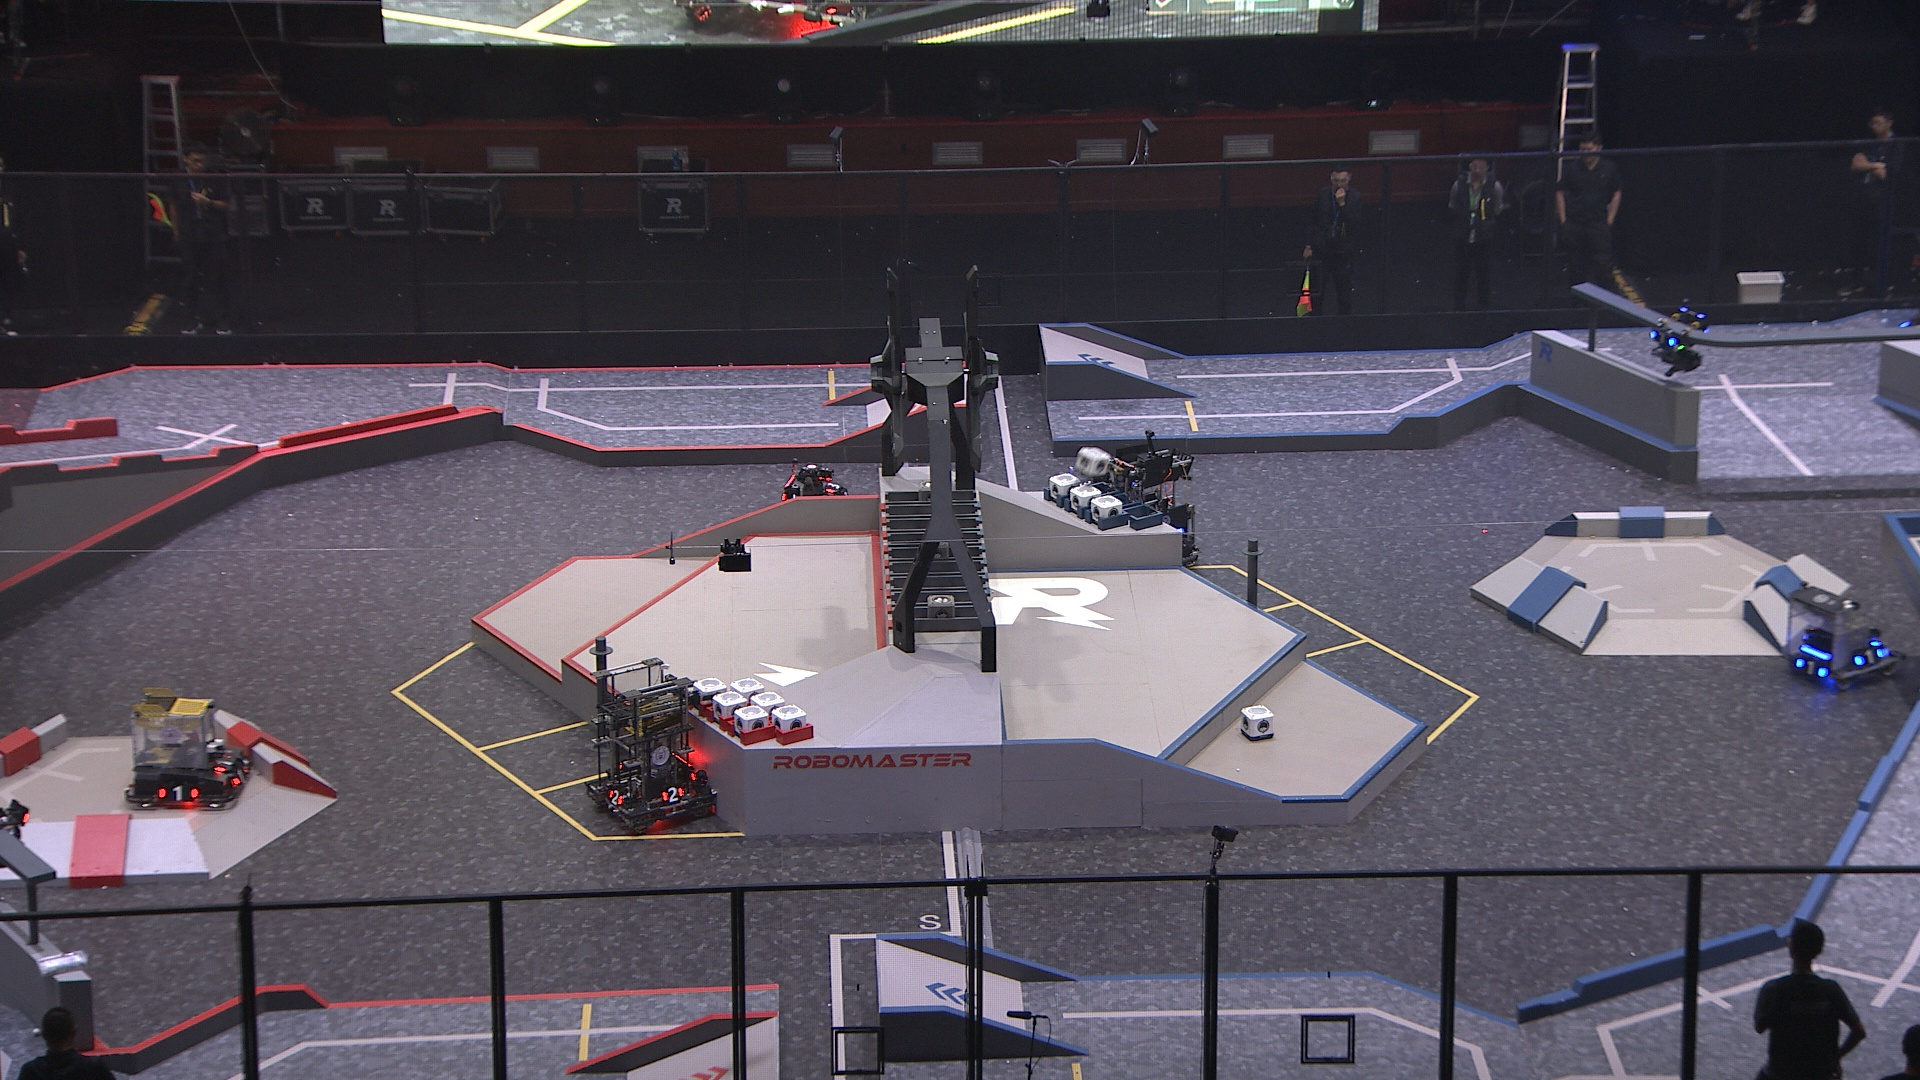armor: (153, 783, 200, 803), (1793, 655, 1830, 679), (1851, 646, 1884, 669), (228, 764, 252, 789), (1650, 328, 1675, 349), (659, 785, 686, 804), (214, 752, 235, 775), (605, 789, 622, 807), (822, 477, 840, 495)
car: (585, 655, 719, 835), (125, 676, 261, 814), (1068, 433, 1199, 572), (1782, 583, 1905, 692), (775, 458, 852, 524)
watcher: (1647, 297, 1714, 380)
